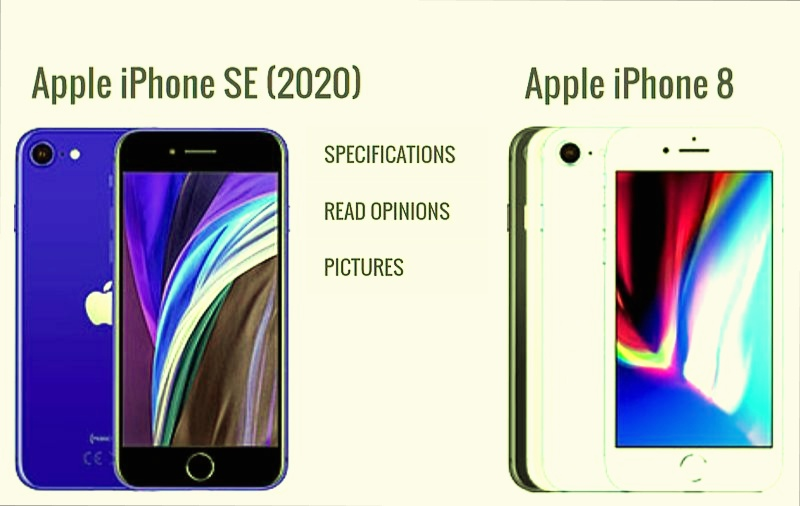iphone: (103, 101, 332, 485), (588, 29, 800, 418)
